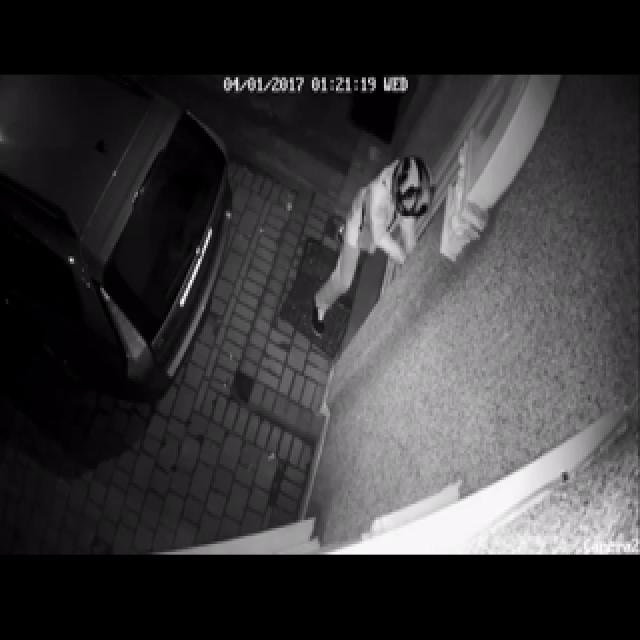burglary: (246, 90, 504, 432)
